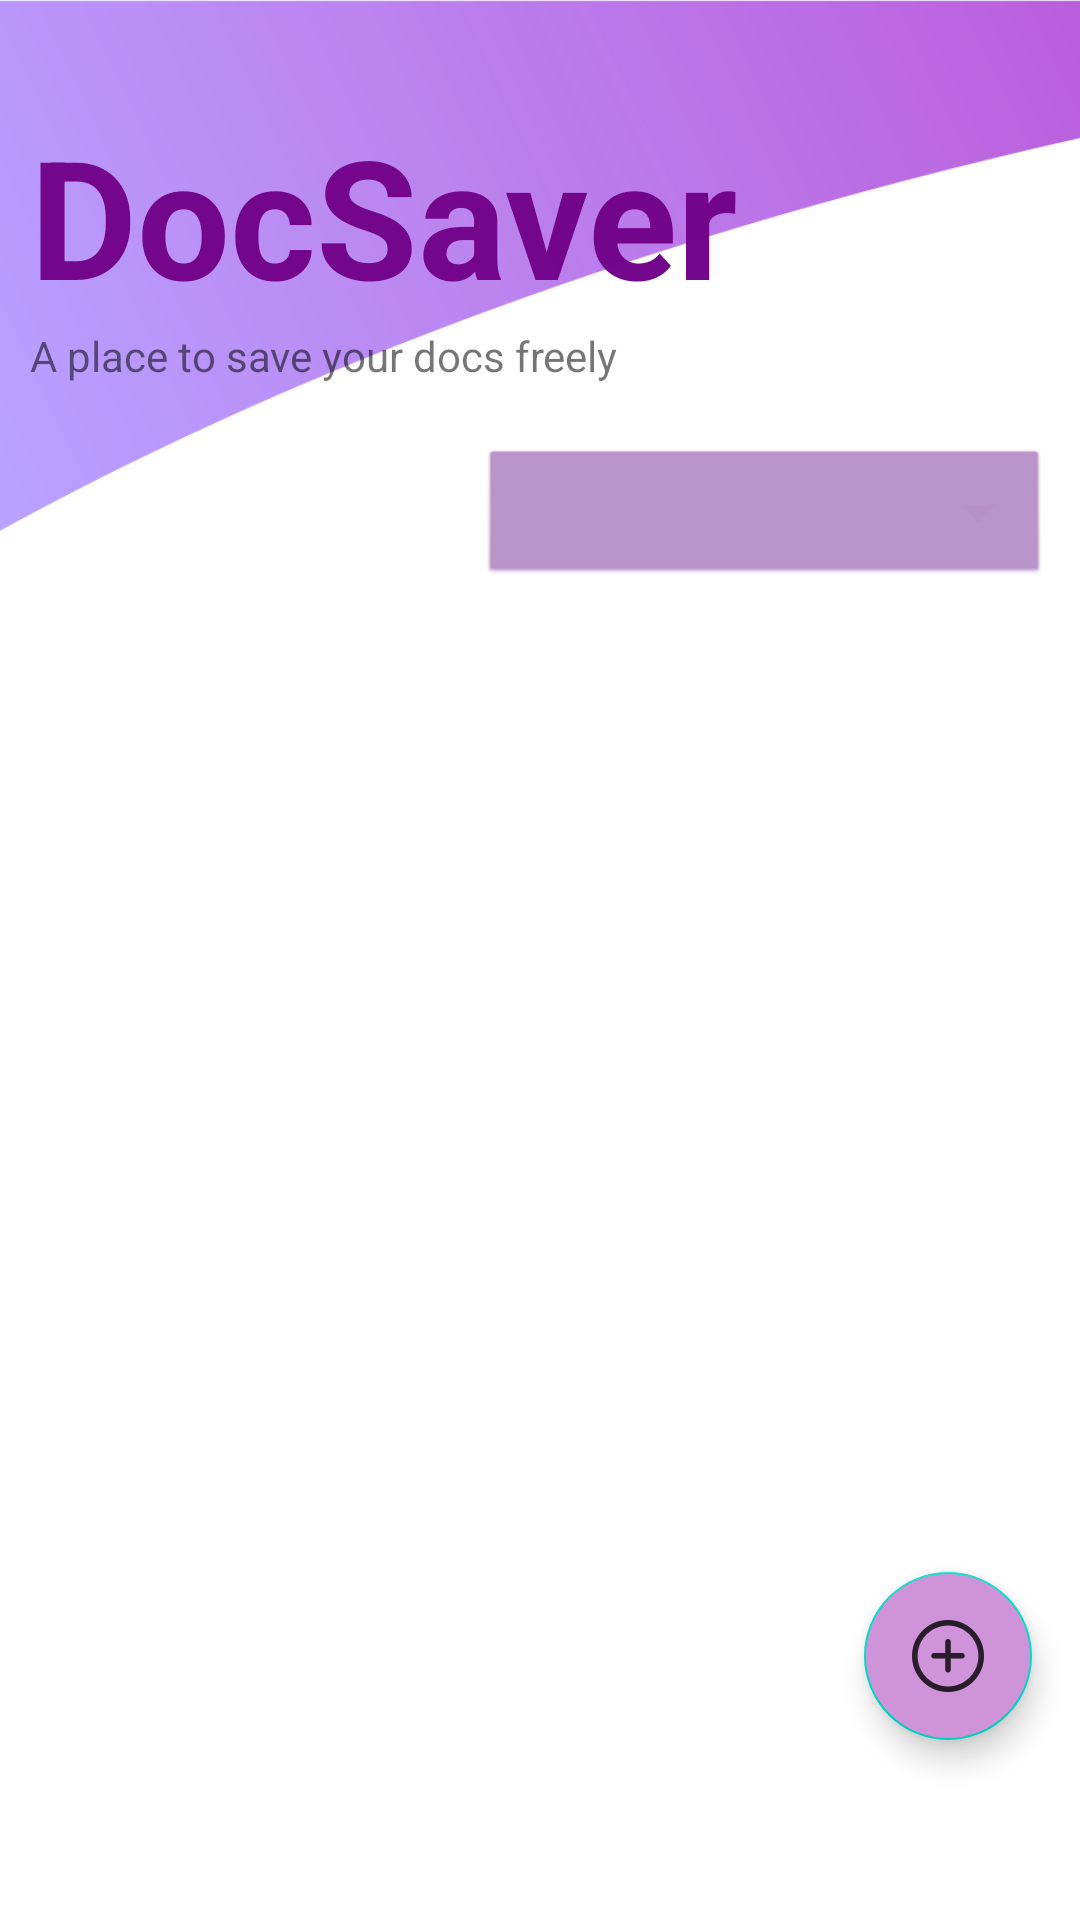

Named icons in this screenshot (1080w x 1920h) and their centers, (x,y):
Add documents!: (948,1656)
